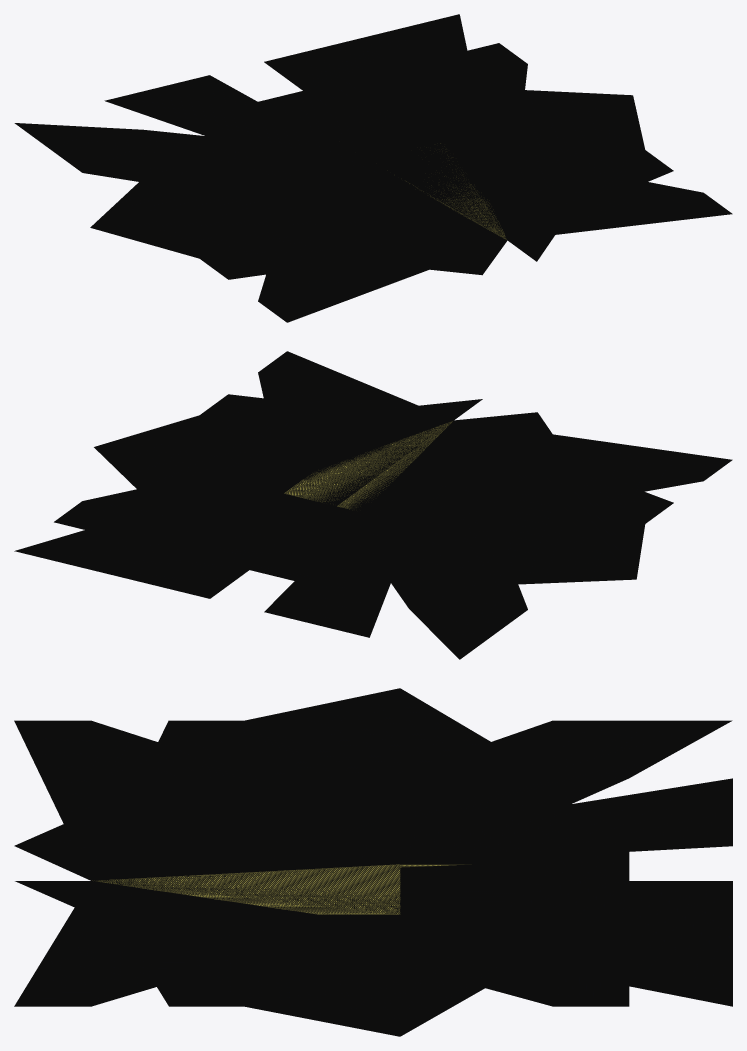
The model's file is nodes.obj.
The picture shows the model from 3 angles, top to bottom: view 1: azimuth 30°, elevation 25°; view 2: azimuth 150°, elevation 25°; view 3: azimuth 270°, elevation 25°; orthographic projection. The views are drawn at different scales.
Visible parts, largest first — view 1: Plane004; view 2: Plane004; view 3: Plane004.
Part boxes in pixels (x1,y1,x2,y2): Plane004: (14, 14, 732, 322); Plane004: (14, 351, 732, 659); Plane004: (14, 688, 732, 1036).
Bounding box in the file's own units: 716 × 0 × 624.
Materials: 1 (1 with a texture image).
